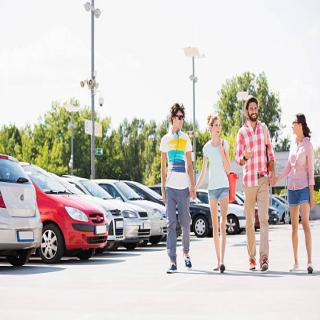Normal_vehicle: (18, 160, 106, 264), (63, 170, 151, 252), (52, 169, 123, 263), (97, 178, 169, 247), (2, 156, 43, 261), (132, 173, 184, 247), (191, 201, 214, 237), (228, 203, 250, 240), (269, 191, 288, 226)
